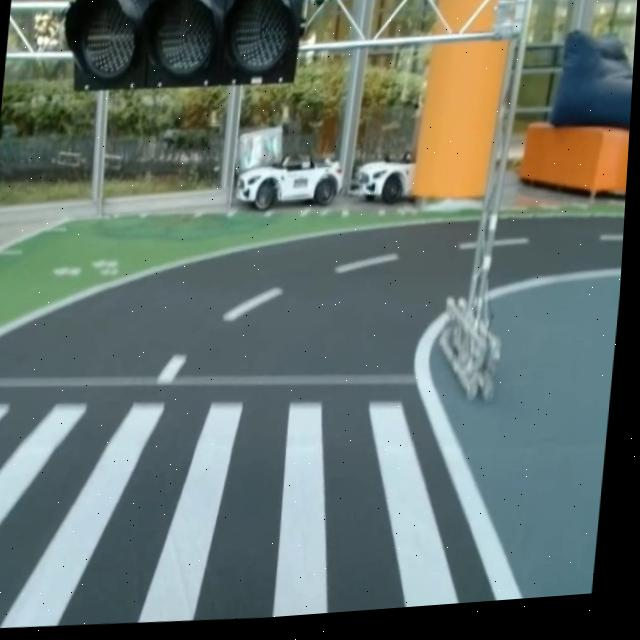traffic-light: (59, 0, 309, 104)
